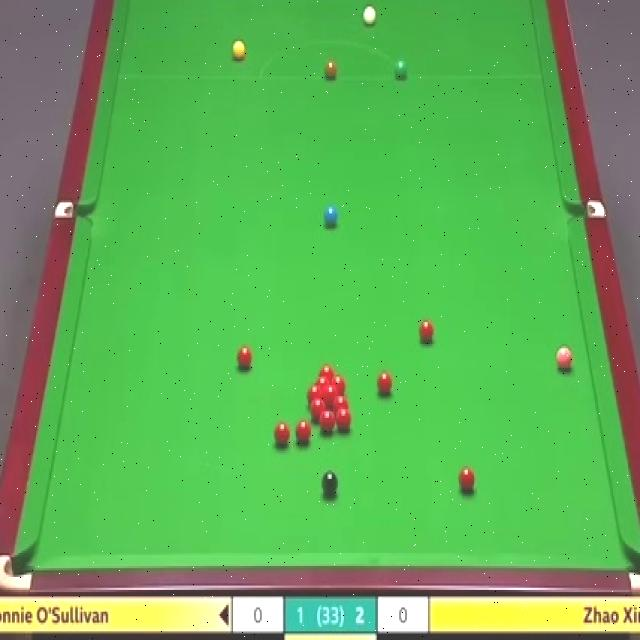black-ball: (322, 470, 338, 498)
blue-ball: (323, 204, 338, 224)
brown-ball: (323, 61, 338, 79)
green-ball: (393, 57, 409, 82)
pink-ball: (554, 345, 574, 372)
red-ball: (375, 369, 393, 398), (294, 420, 310, 448), (275, 418, 290, 447), (458, 467, 475, 492), (324, 384, 340, 408), (238, 345, 252, 372), (310, 396, 325, 421), (320, 410, 337, 432), (419, 319, 433, 344), (336, 409, 350, 431), (333, 396, 350, 414), (306, 386, 323, 404), (330, 375, 345, 395), (319, 362, 336, 376), (314, 375, 332, 388)
white-ball: (364, 6, 376, 25)
yellow-ball: (232, 40, 247, 62)
